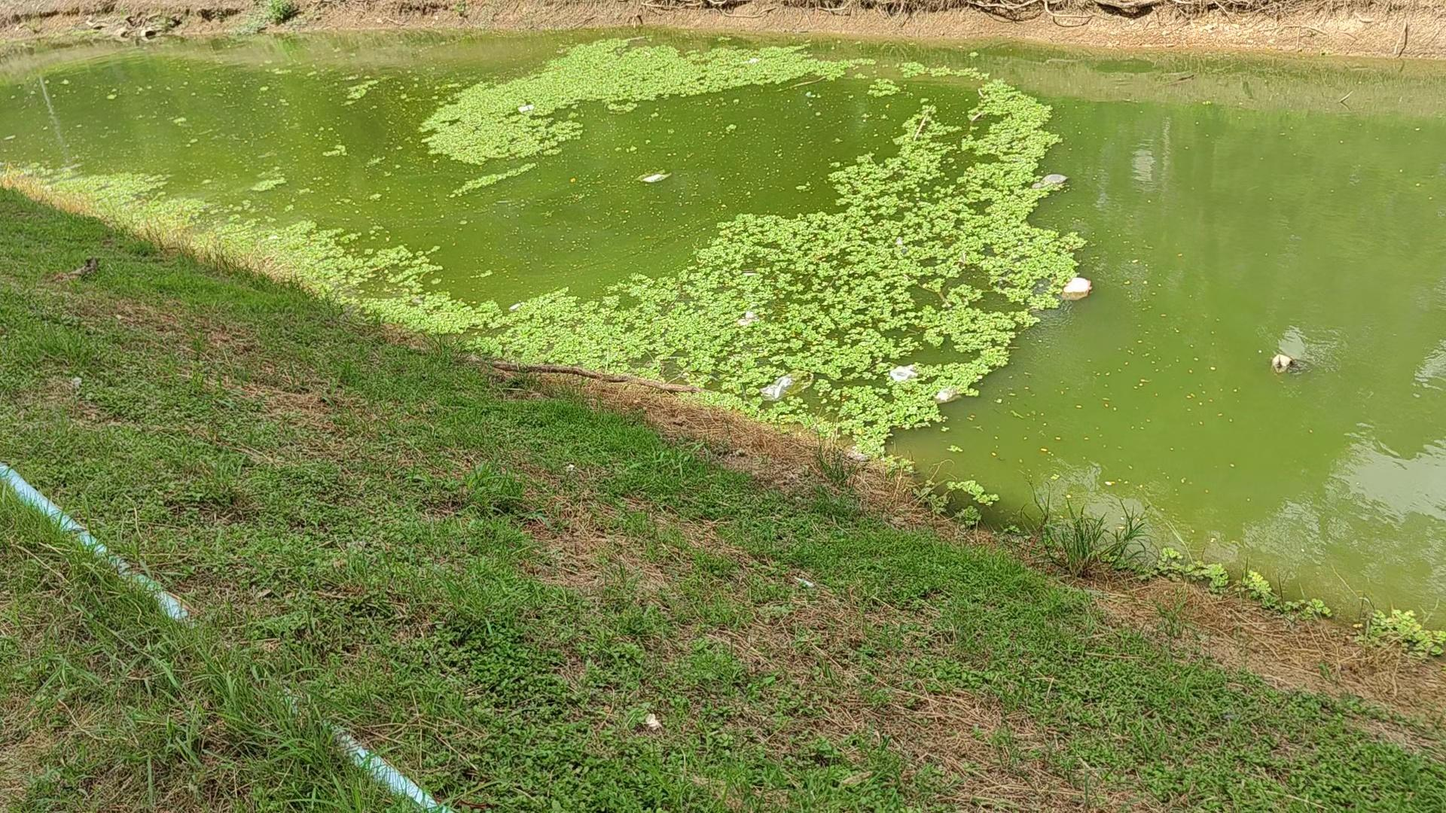trash: (760, 375, 796, 400), (1061, 276, 1091, 300), (1032, 173, 1067, 188), (889, 364, 918, 382), (1271, 354, 1294, 373), (935, 387, 962, 403), (738, 310, 757, 326), (640, 172, 668, 182), (520, 104, 534, 112), (746, 57, 760, 63)
